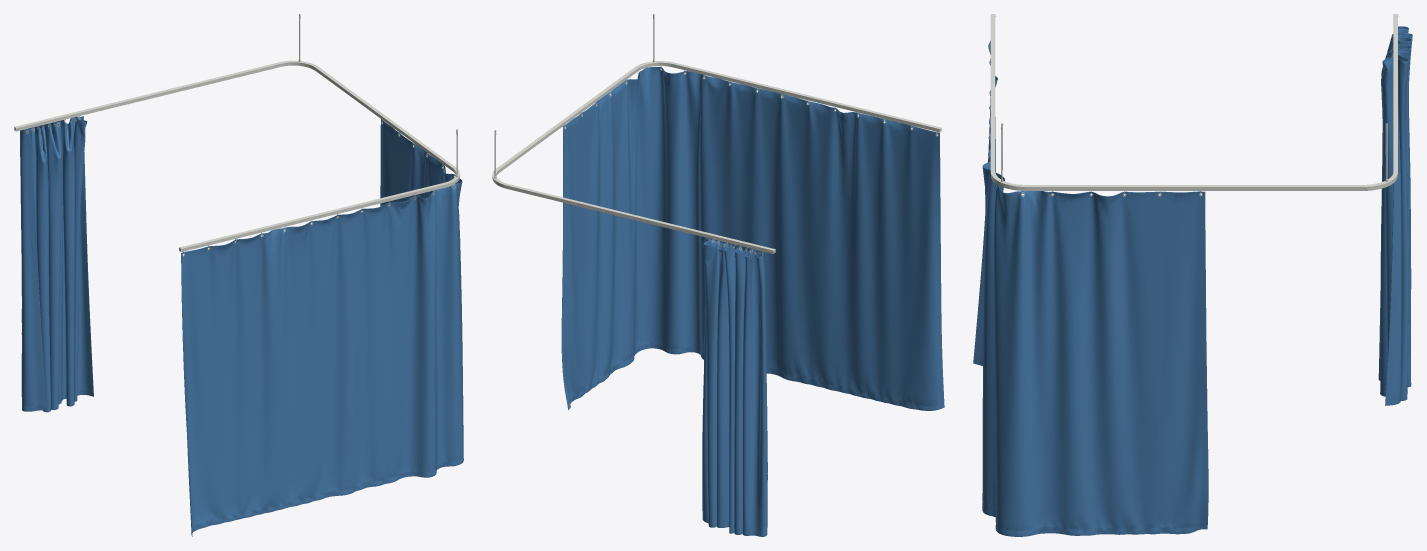
The model's file is screen_hospital_b02.glb.
3 views of the same model, side by side, from view 1: azimuth 30°, elevation 25°; view 2: azimuth 150°, elevation 25°; view 3: azimuth 270°, elevation 25° (orthographic). The views are drawn at different scales.
Size of the model in its own units: 3.18 by 3.46 by 3.37.
